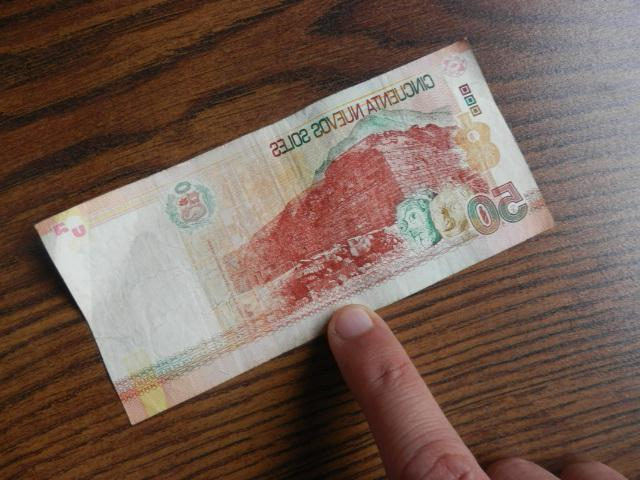B50: (38, 38, 558, 426)
